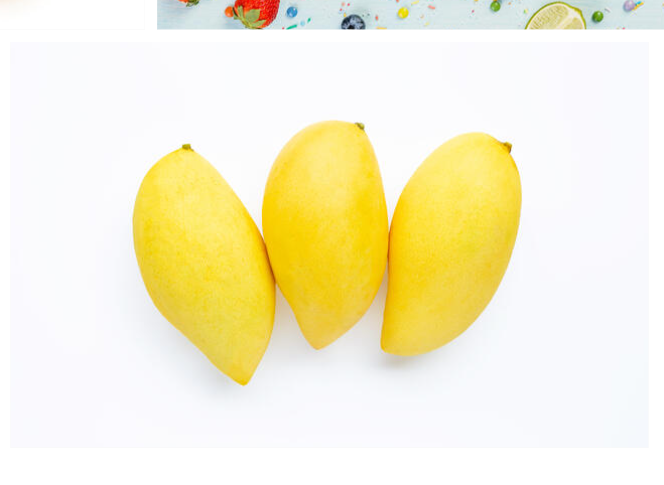mango: (134, 144, 276, 387), (379, 132, 522, 357), (264, 118, 390, 352)
